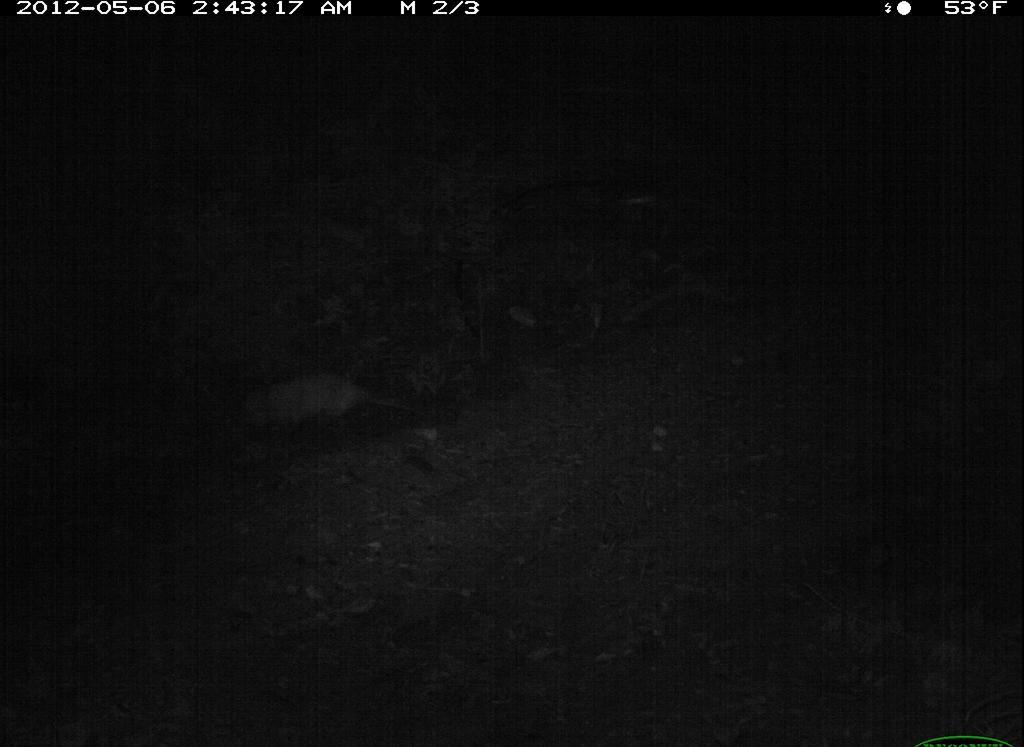opossum: (219, 369, 445, 442)
